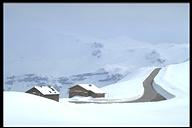house: (68, 83, 109, 100), (25, 85, 61, 103)
road: (110, 61, 176, 107)
sky: (8, 6, 100, 71)
snow: (7, 103, 189, 125)
